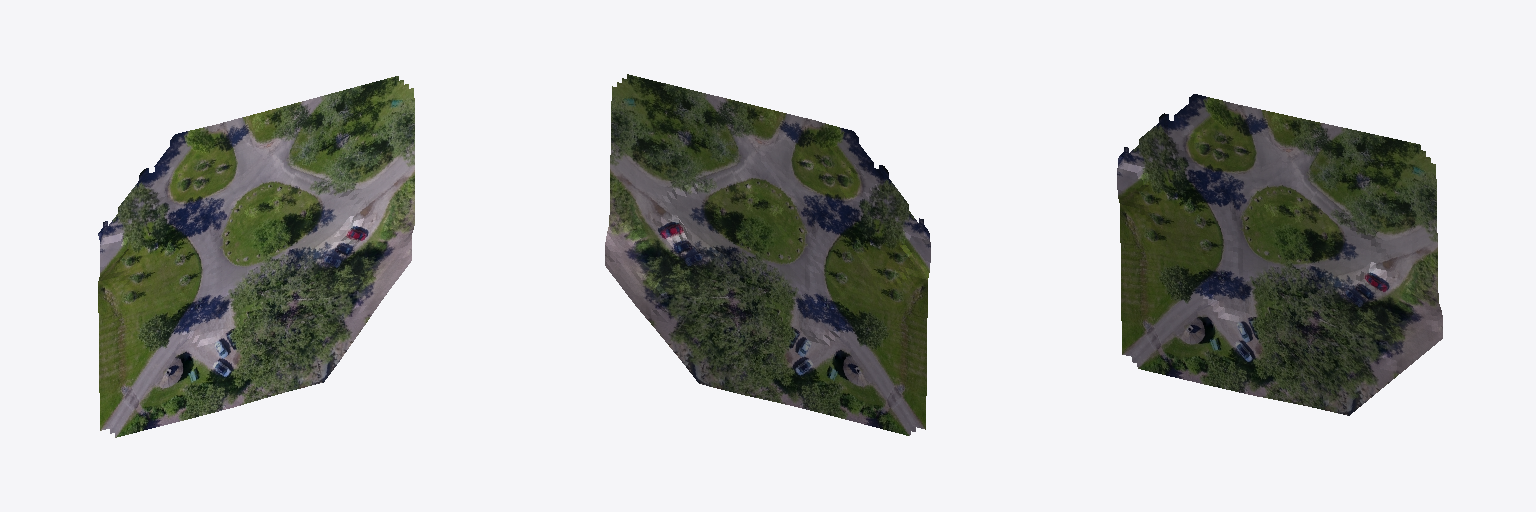
3 views of the same model, side by side, from view 1: azimuth 30°, elevation 25°; view 2: azimuth 150°, elevation 25°; view 3: azimuth 330°, elevation 25° (orthographic).
Size of the model in its own units: 73.25 by 64.37 by 2.91.
Materials: 1 (1 with a texture image).